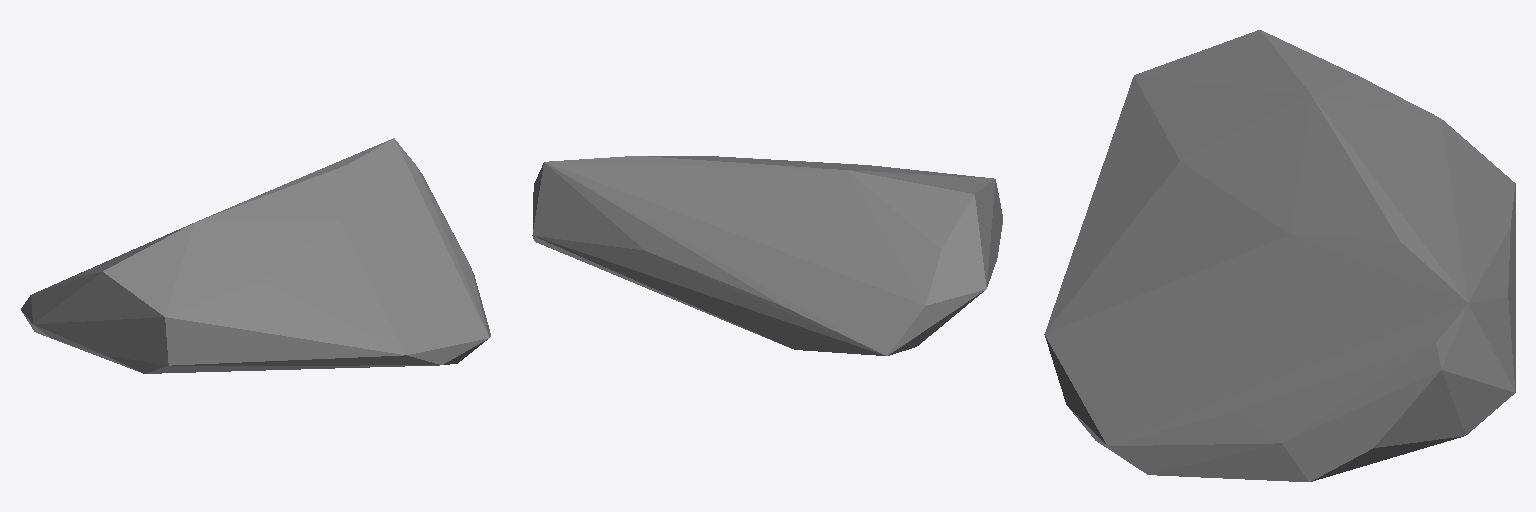
The robot description file, URDF, robot "30_910":
<?xml version="1.0"?>
<robot name="30_910">
  <link name="link">
    <contact>
      <lateral_friction value="0.6"/>
    </contact>
    <inertial>
      <mass value = "0.38359560203392634"/>
      <inertia ixx="0.00014072140917304414" ixy="2.0505243374514377e-05" ixz="-1.675014604816791e-05" iyy="0.0003516781307308284" iyz="1.838080830827643e-06" izz="0.0004398488369336017" />
    </inertial>
    <visual name="visual">
      <geometry>
        <mesh filename="30_910.obj"/>
      </geometry>
      <material name="material">
        <color rgba="0.5469273213183444 0.5469273213183444 0.5469273213183444 1.0"/>
      </material>
    </visual>
    <collision name="collision">
      <geometry>
        <mesh filename="30_910.obj"/>
      </geometry>
    </collision>
  </link>
</robot>

--- What the picture shows (computed from the rendered views, not written in the file) ---
The picture shows the robot from 3 angles, left to right: view 1: azimuth 30°, elevation 25°; view 2: azimuth 150°, elevation 25°; view 3: azimuth 270°, elevation 25°; orthographic projection.
Model 30_910 with 1 links and 0 joints (none), rooted at link, posed all joints at 0.
Links seen in each view (by area): view 1: link; view 2: link; view 3: link.
Link boxes in pixels (x1=…): link: x1=21, y1=138, x2=490, y2=373; link: x1=532, y1=156, x2=1002, y2=355; link: x1=1044, y1=30, x2=1515, y2=481.
Size in the robot's own frame: 0.124 by 0.078 by 0.0374 metres.
1 mesh visuals loaded from 1 distinct referenced files (1 OBJ).
